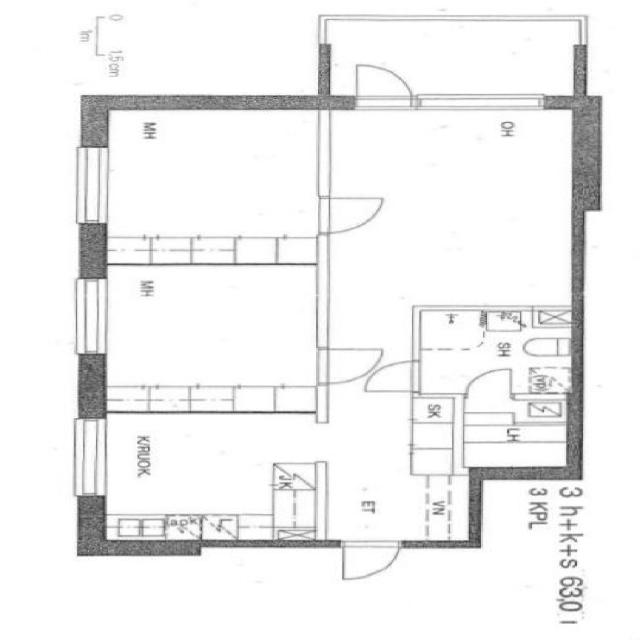door: (342, 59, 419, 111), (312, 190, 392, 235), (313, 345, 389, 391), (366, 352, 423, 394), (459, 364, 518, 402)
window: (61, 410, 118, 505), (64, 138, 119, 232), (62, 270, 116, 362), (414, 91, 547, 116)
zone: (324, 104, 588, 324), (100, 107, 323, 266), (96, 261, 320, 414), (90, 410, 322, 547), (416, 306, 580, 400), (462, 393, 581, 472), (334, 536, 405, 586)
